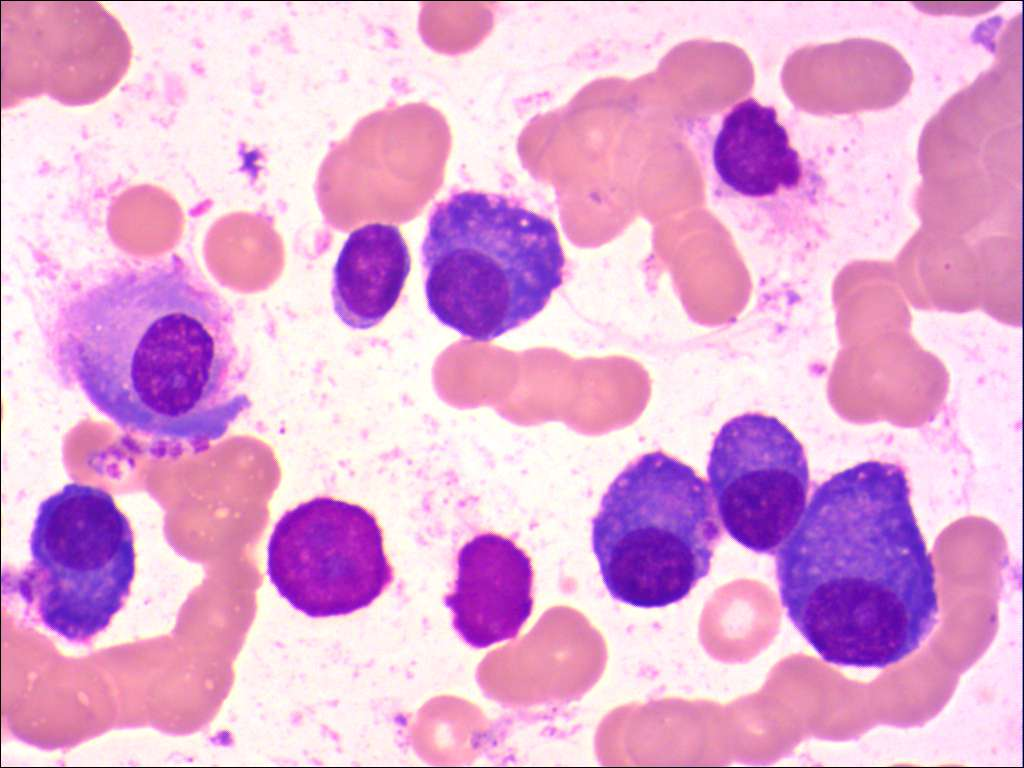32: (329, 220, 414, 334)
51: (35, 247, 258, 442), (774, 458, 941, 672), (414, 187, 567, 346), (588, 447, 728, 613), (14, 478, 140, 650), (704, 409, 813, 557)
x: (262, 490, 398, 622), (689, 92, 821, 219), (439, 530, 540, 652)
